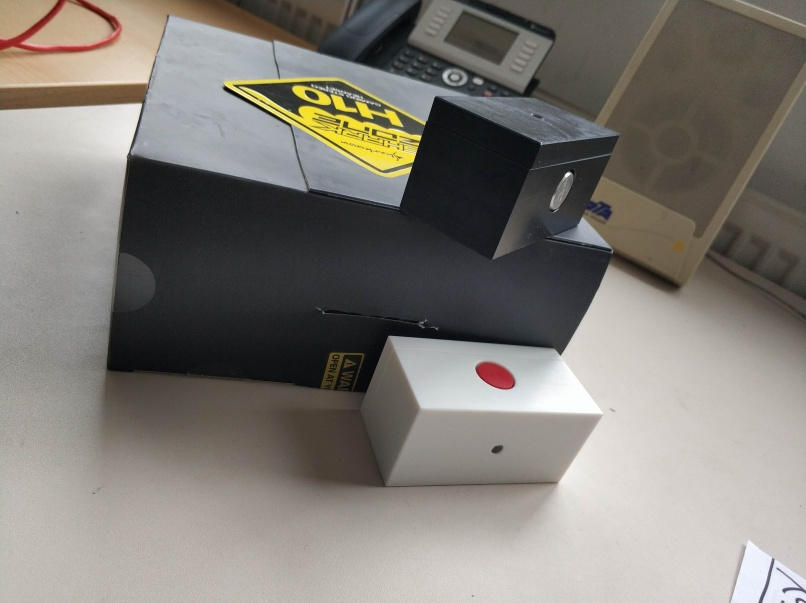black+black+silver: (396, 90, 621, 264)
white+white+red: (353, 329, 610, 490)
